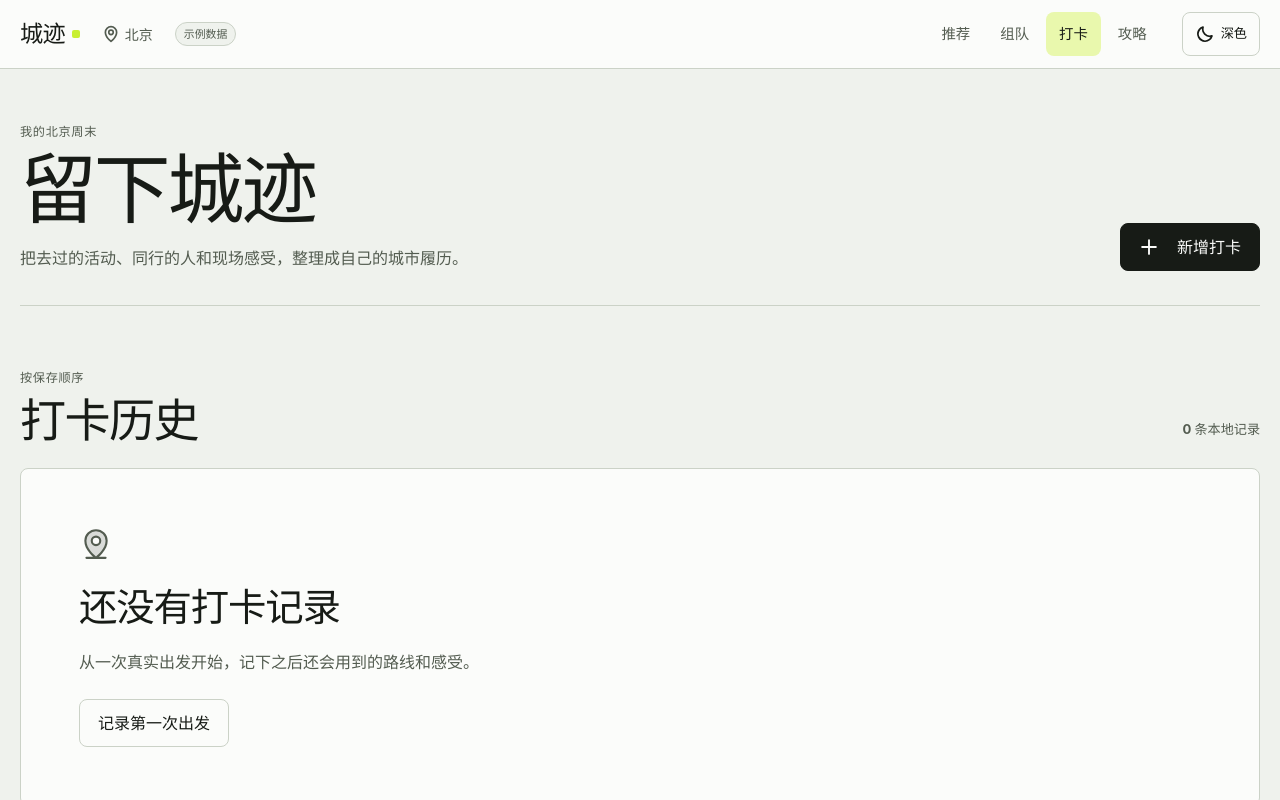
Test: saves a persistent check-in and preserves the success state
Step 1. Click the button "新增打卡" → click(1190, 247), box [1120,223,1260,271]
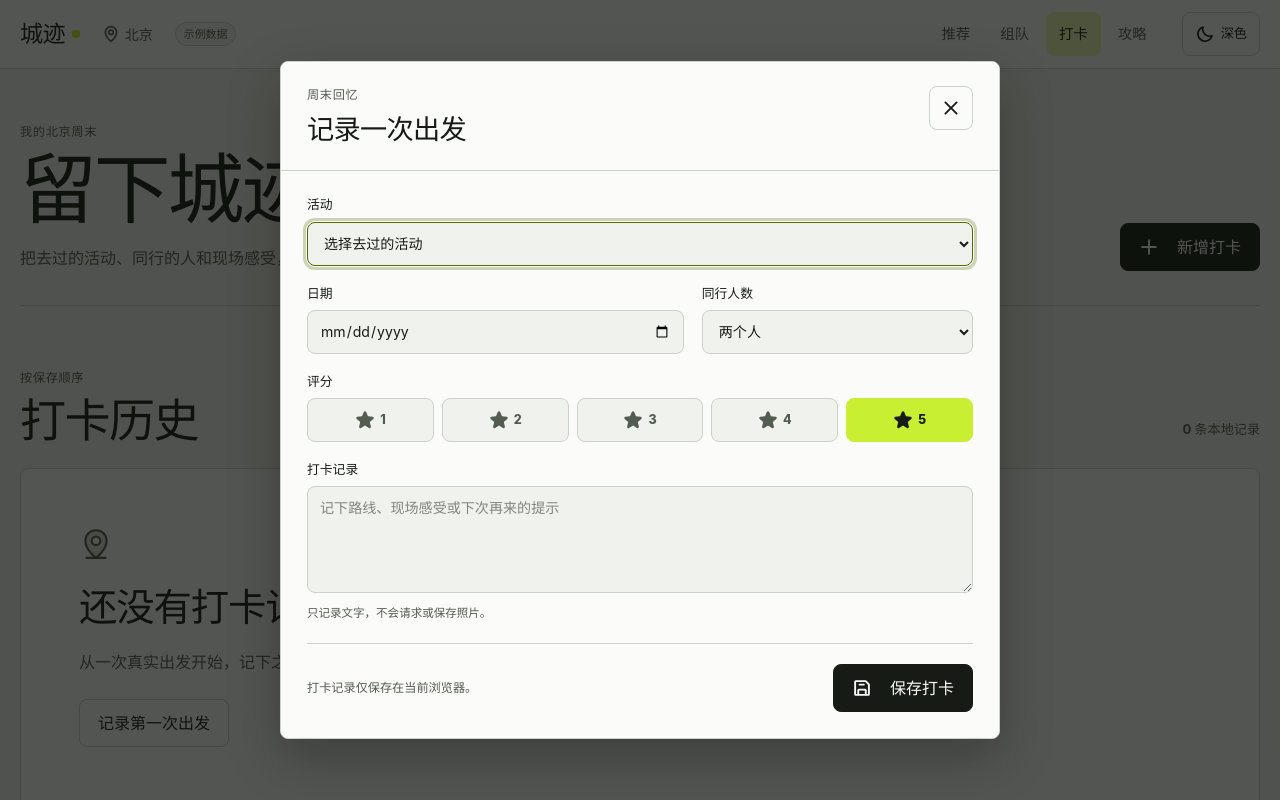
Step 2. Select "798 当代艺术周末" in the dropdown labelled "活动" → (640, 244), box [307,222,973,266]
Step 3. Type "2026-09-19" into the date field labelled "日期" → (495, 332), box [307,310,684,354]
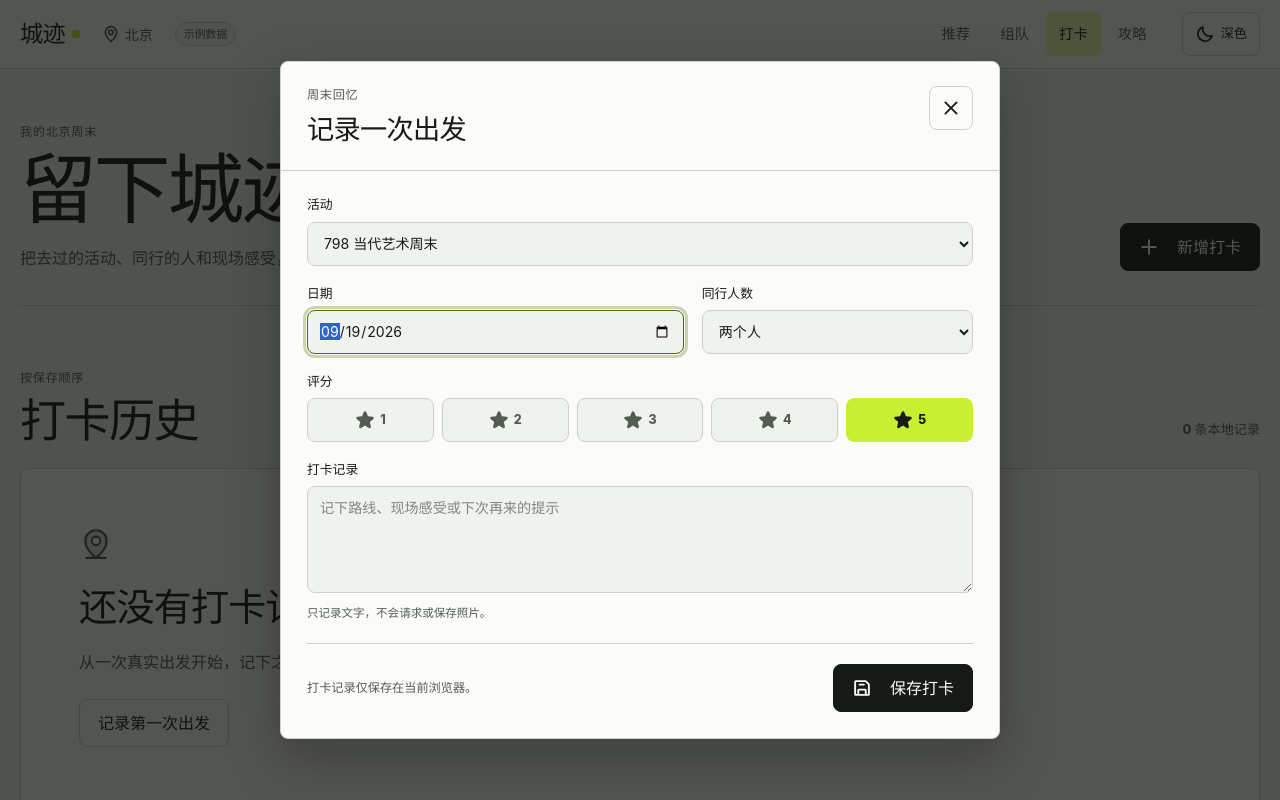
Step 4. Select "两个人" in the dropdown labelled "同行人数" → (837, 332), box [702,310,973,354]
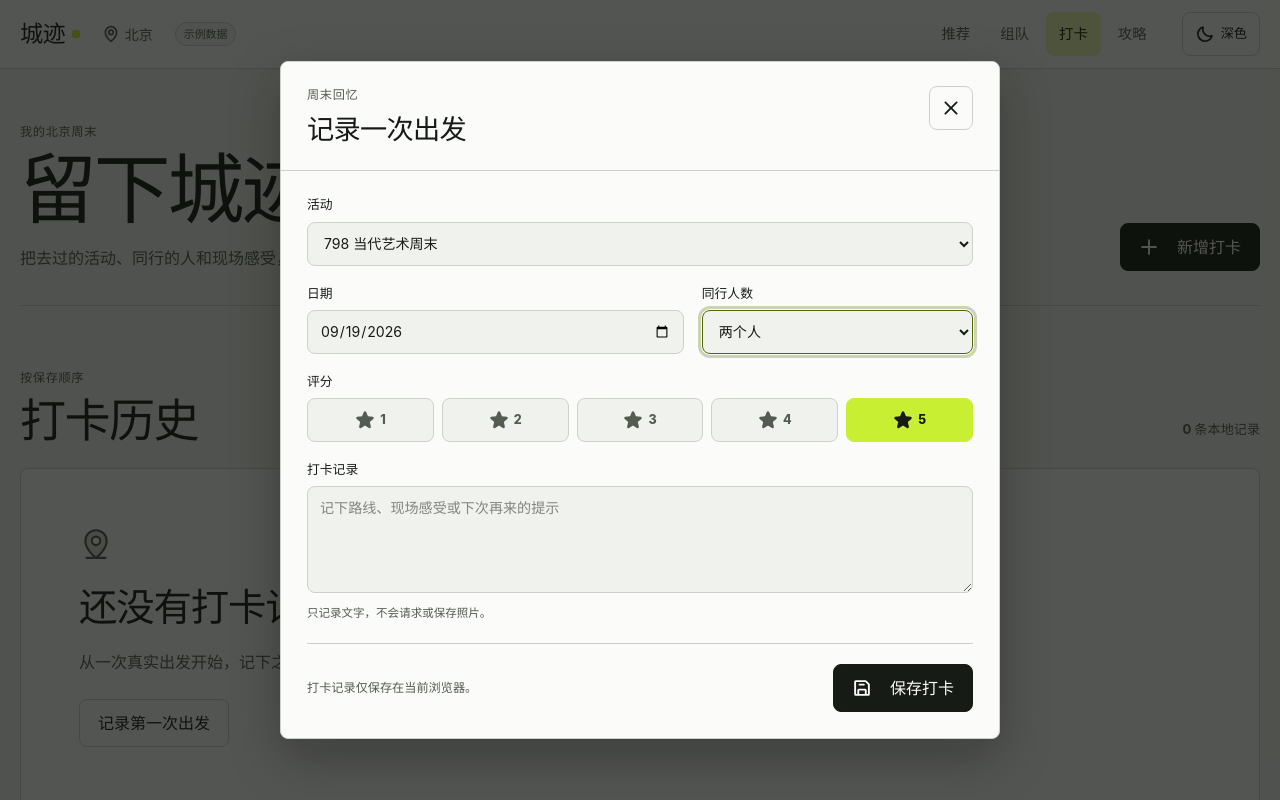
Step 5. Click the radio button named "5 星" → click(910, 420), box [846,398,973,442]
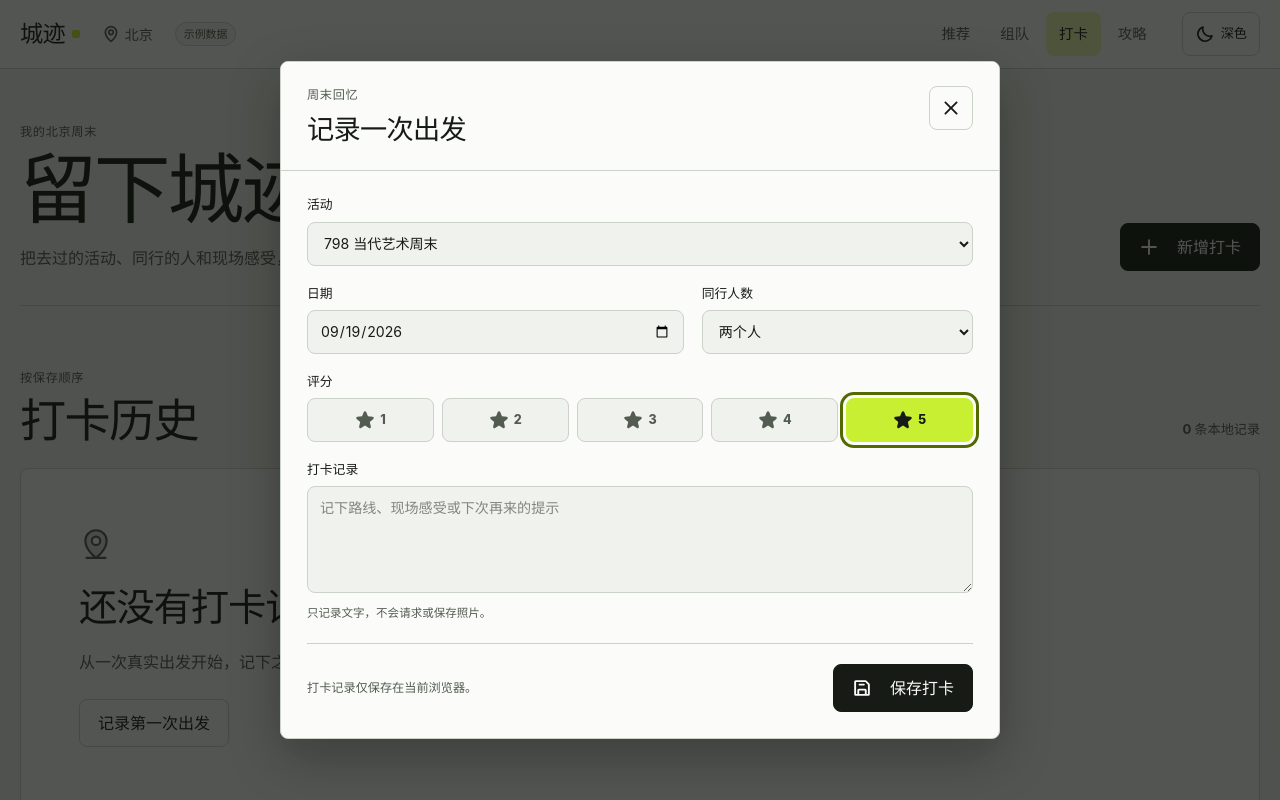
Step 6. Type "展览动线清晰，下午人更多。" into the text box labelled "打卡记录" → (640, 539), box [307,486,973,592]
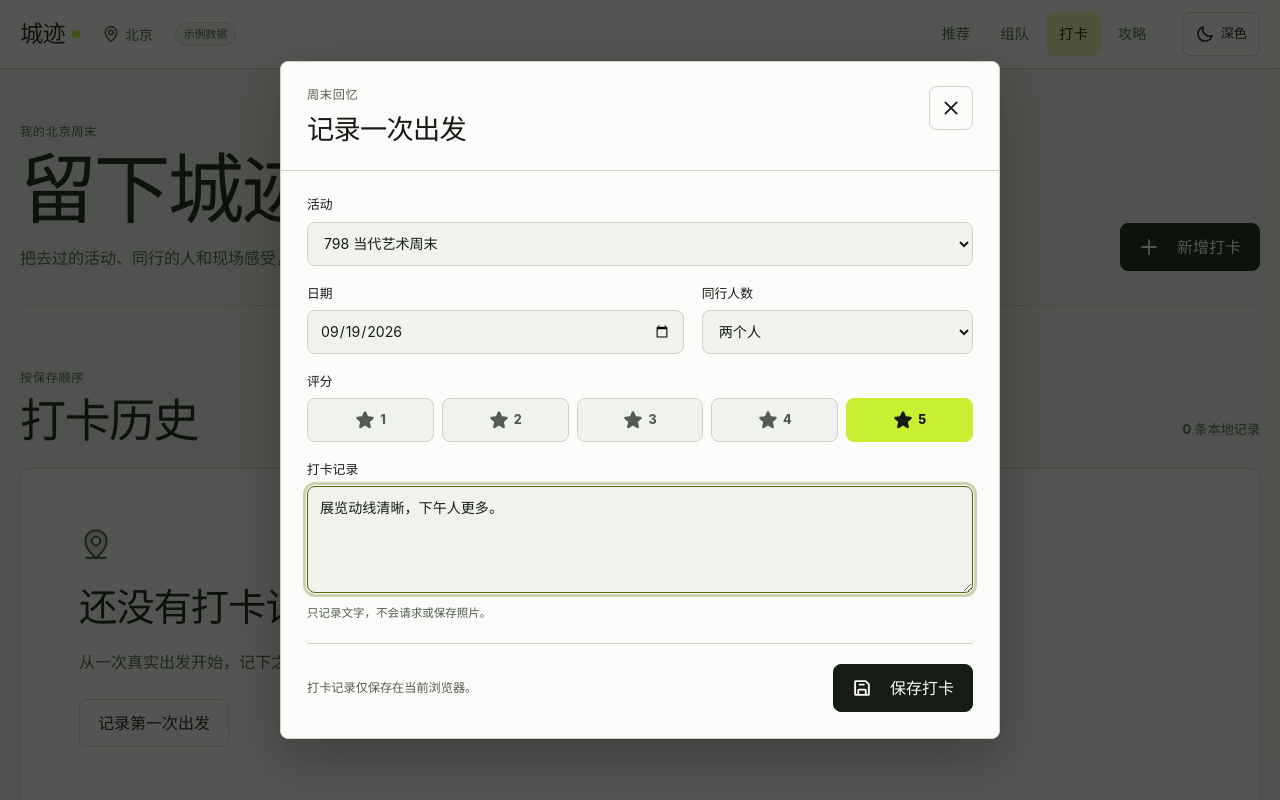
Step 7. Click the button "保存打卡" → click(903, 688), box [833,664,973,712]
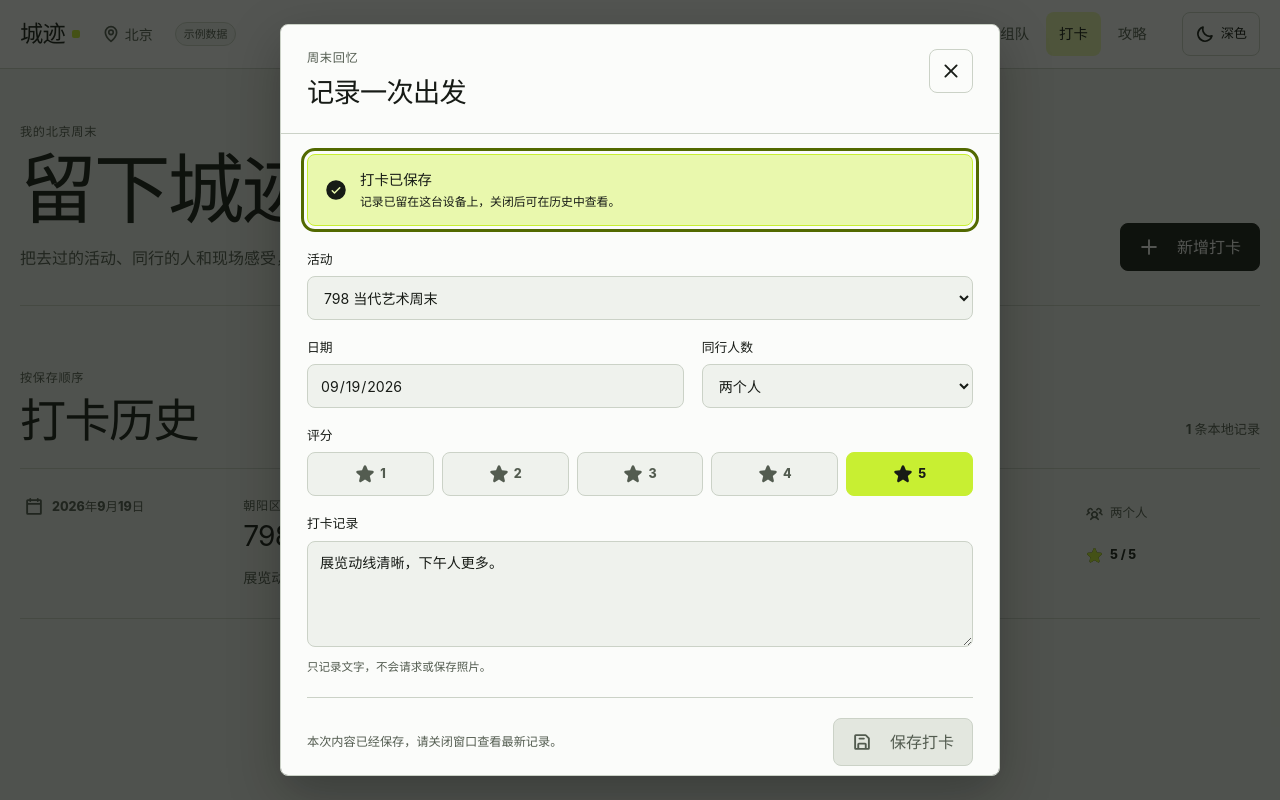
Result: the radio button named "5 星" is checked at [846,452,973,496]
Result: the dialog "记录一次出发" is shown at [280,24,1000,776]
Result: the message "打卡已保存" is shown at [307,154,973,226]
